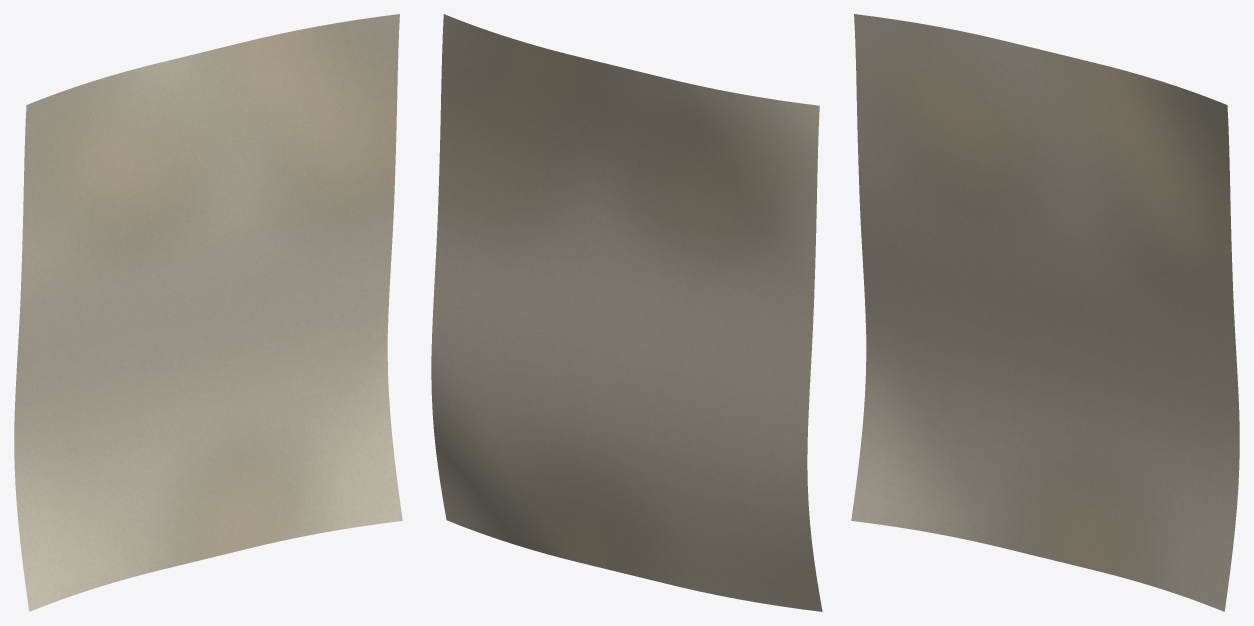
File: blotter-sheet.glb
3 views of the same model, side by side, from view 1: azimuth 30°, elevation 25°; view 2: azimuth 150°, elevation 25°; view 3: azimuth 330°, elevation 25° (orthographic).
Visible parts, largest first — view 1: Front; view 2: Back; view 3: Front.
Boxes of the visible parts, x1=… form: Front: x1=14, y1=14, x2=402, y2=611; Back: x1=431, y1=14, x2=822, y2=611; Front: x1=851, y1=14, x2=1239, y2=611.
Size of the model in its own units: 0.216 by 0.279 by 0.0155.
1 material, 1 textured.
